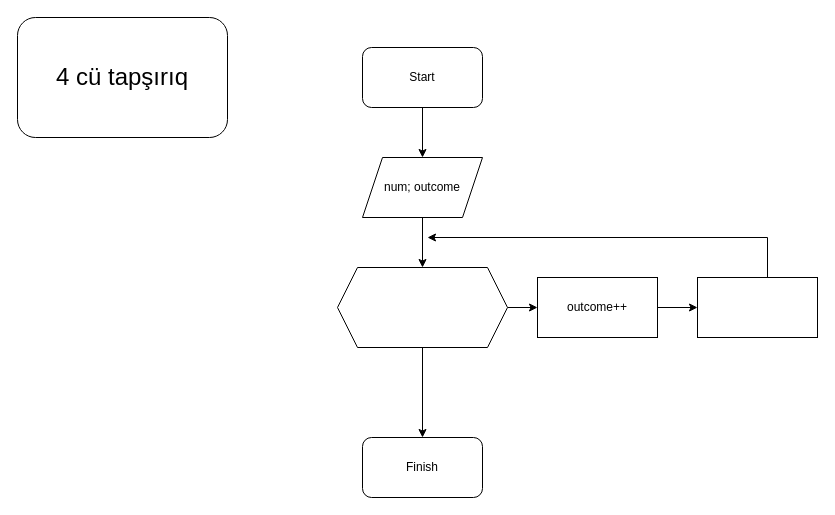
Some shapes in this 835 by 515 pixel diagram are drawn without their labels. The shapes that lost their labels are listed below. From the top down, each one's box as (x1, y1, x2, y2) in pixels, then its label:
(336, 266, 508, 348): while (num > 0)
(696, 276, 818, 338): num /= 10
